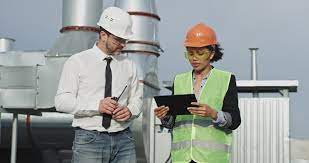Helmet: (91, 4, 142, 37), (181, 24, 219, 49)
Jacket: (174, 72, 234, 162)
No-jacket: (68, 49, 139, 152)
